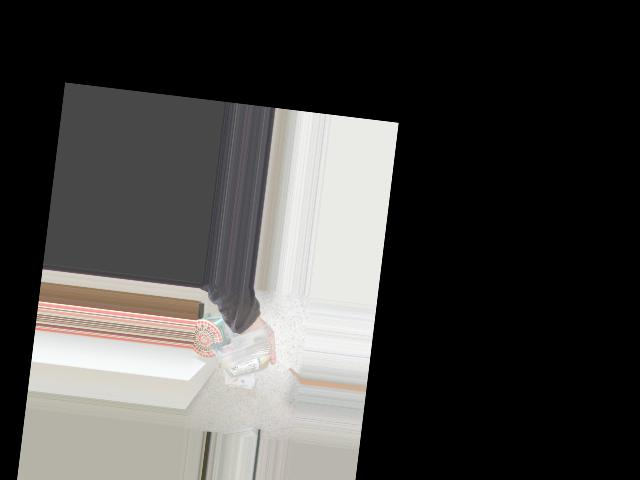cheese: (226, 329, 261, 395)
